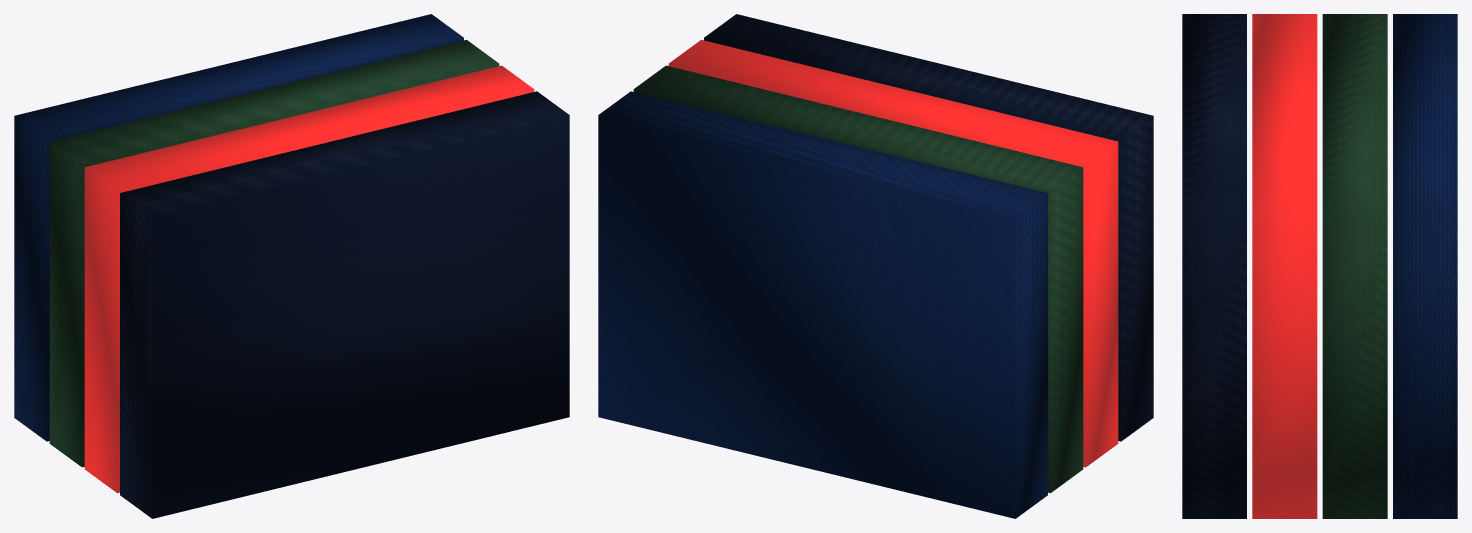
File: BOOK_STACK_001.glb
The picture shows the model from 3 angles, left to right: view 1: azimuth 30°, elevation 25°; view 2: azimuth 150°, elevation 25°; view 3: azimuth 270°, elevation 25°; orthographic projection.
Visible parts, largest first — view 1: book_003, book_000, book_001, book_002; view 2: book_000, book_001, book_002, book_003; view 3: book_001, book_002, book_000, book_003.
Boxes of the visible parts, bbox=[...] form: book_003: bbox=[120, 91, 569, 518]; book_000: bbox=[14, 14, 463, 441]; book_001: bbox=[49, 39, 499, 467]; book_002: bbox=[84, 65, 534, 493]; book_000: bbox=[598, 91, 1047, 518]; book_001: bbox=[633, 65, 1083, 493]; book_002: bbox=[668, 39, 1118, 467]; book_003: bbox=[704, 14, 1153, 441]; book_001: bbox=[1322, 14, 1387, 518]; book_002: bbox=[1252, 14, 1317, 518]; book_000: bbox=[1393, 14, 1457, 518]; book_003: bbox=[1182, 14, 1246, 518].
Size of the model in its own units: 0.26 by 0.18 by 0.149.
4 materials, 4 textured.
